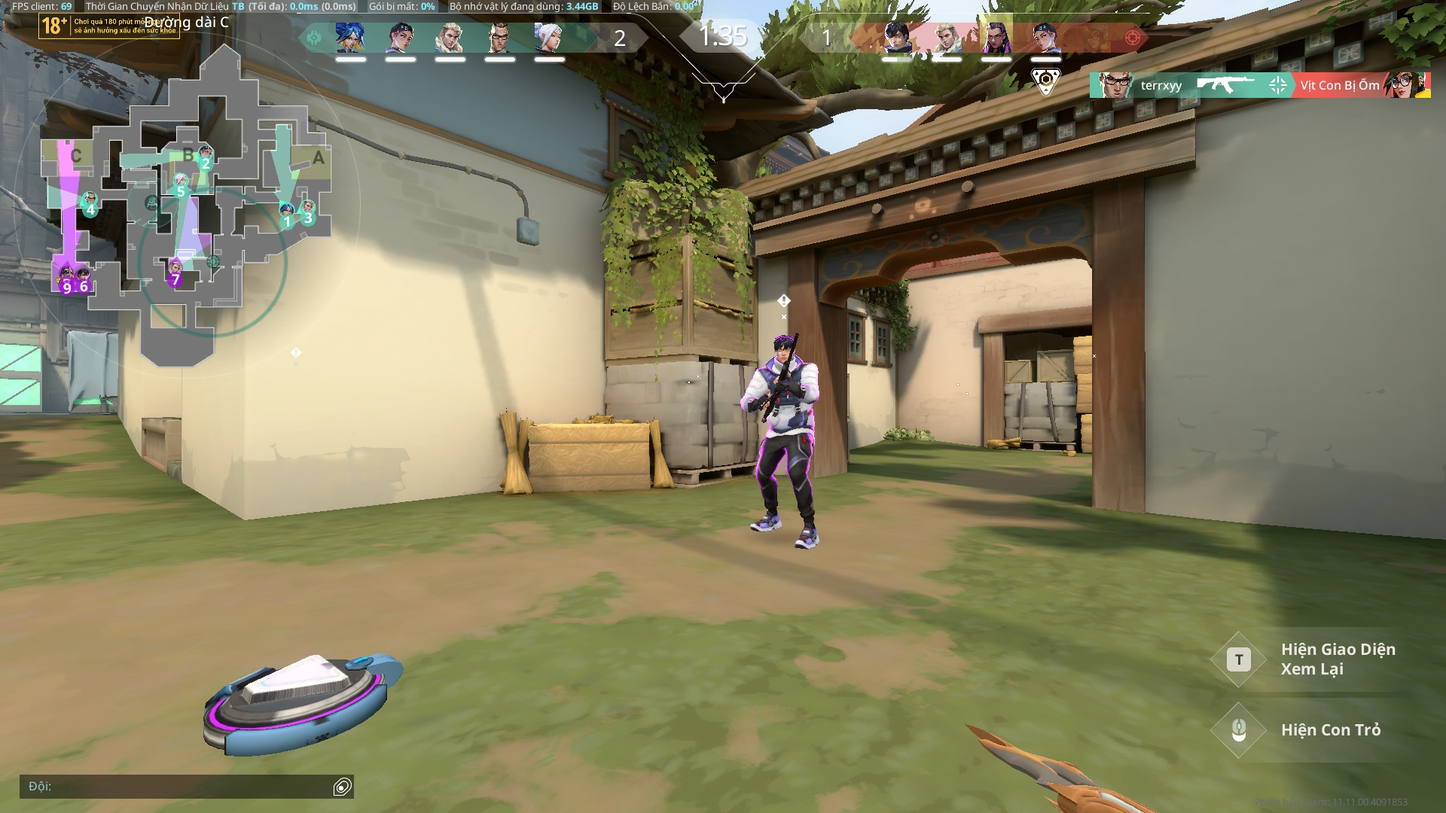body: (756, 358, 818, 428)
head: (773, 336, 798, 362)
